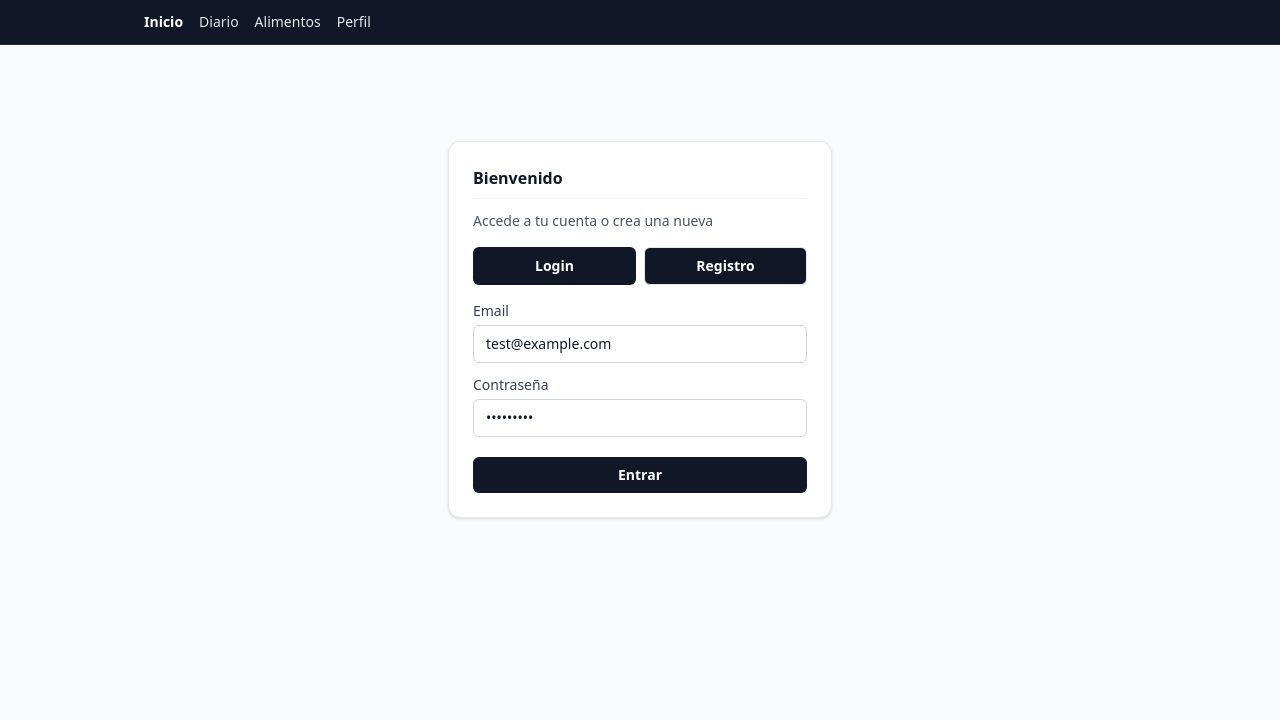
Página de autenticación › permite alternar entre Login y Registro
What coordinates should you click on to do the following:
click the button "Registro"
I would click on:
 (726, 266)
Its box is [644,247,807,285].
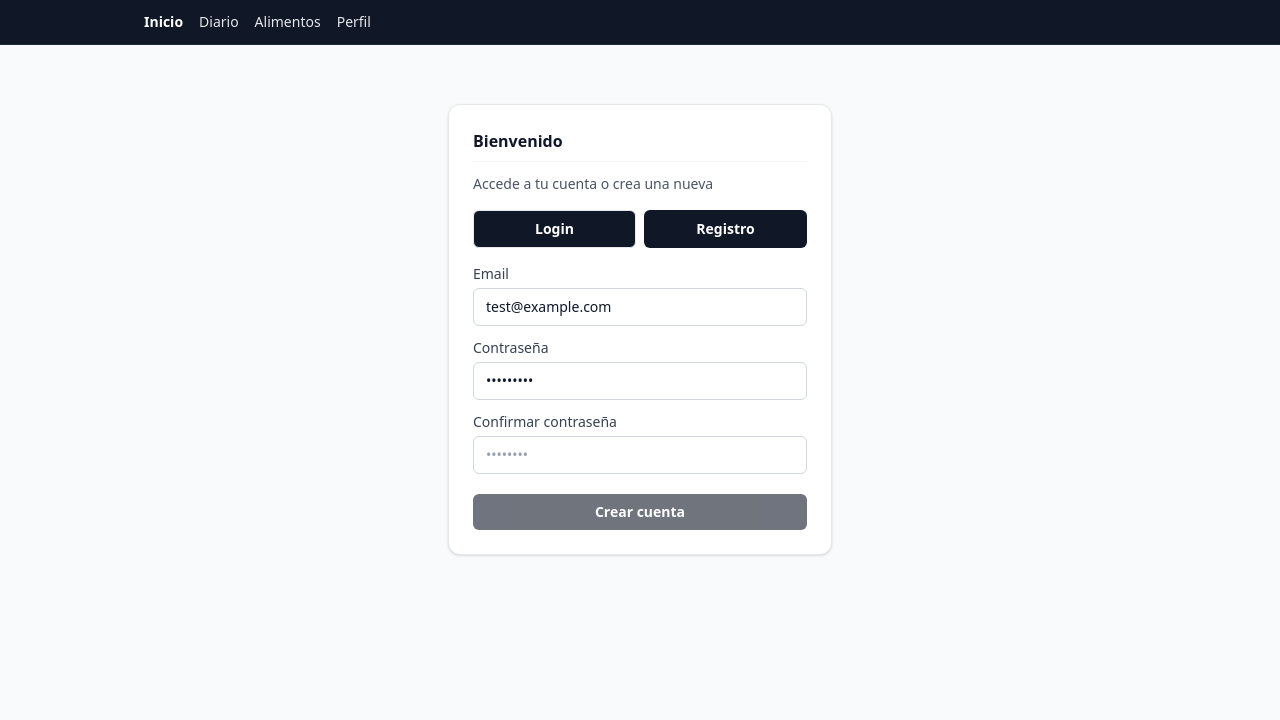
Now the text "Confirmar contraseña" is shown, box [473,412,807,474]
What coordinates should you click on to do the following:
click the button "Login"
I would click on:
 (555, 229)
Its box is [473,210,636,248].
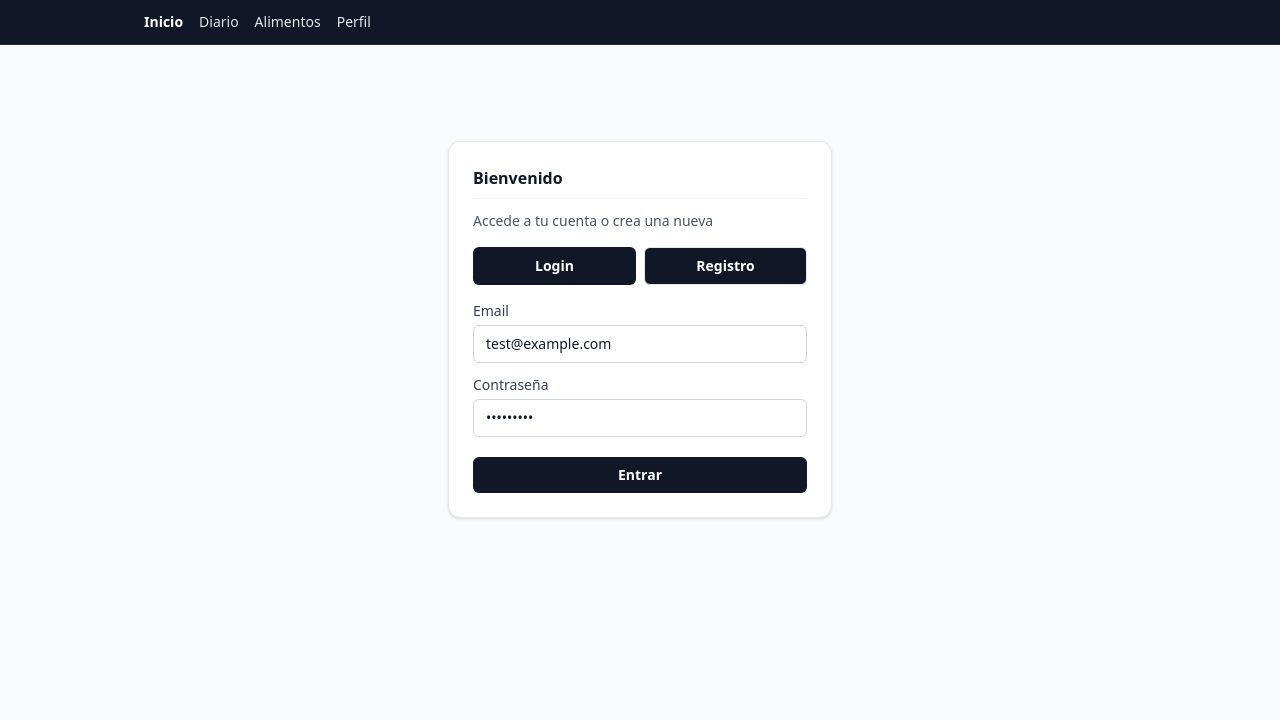
Now the text "Confirmar contraseña" is gone
